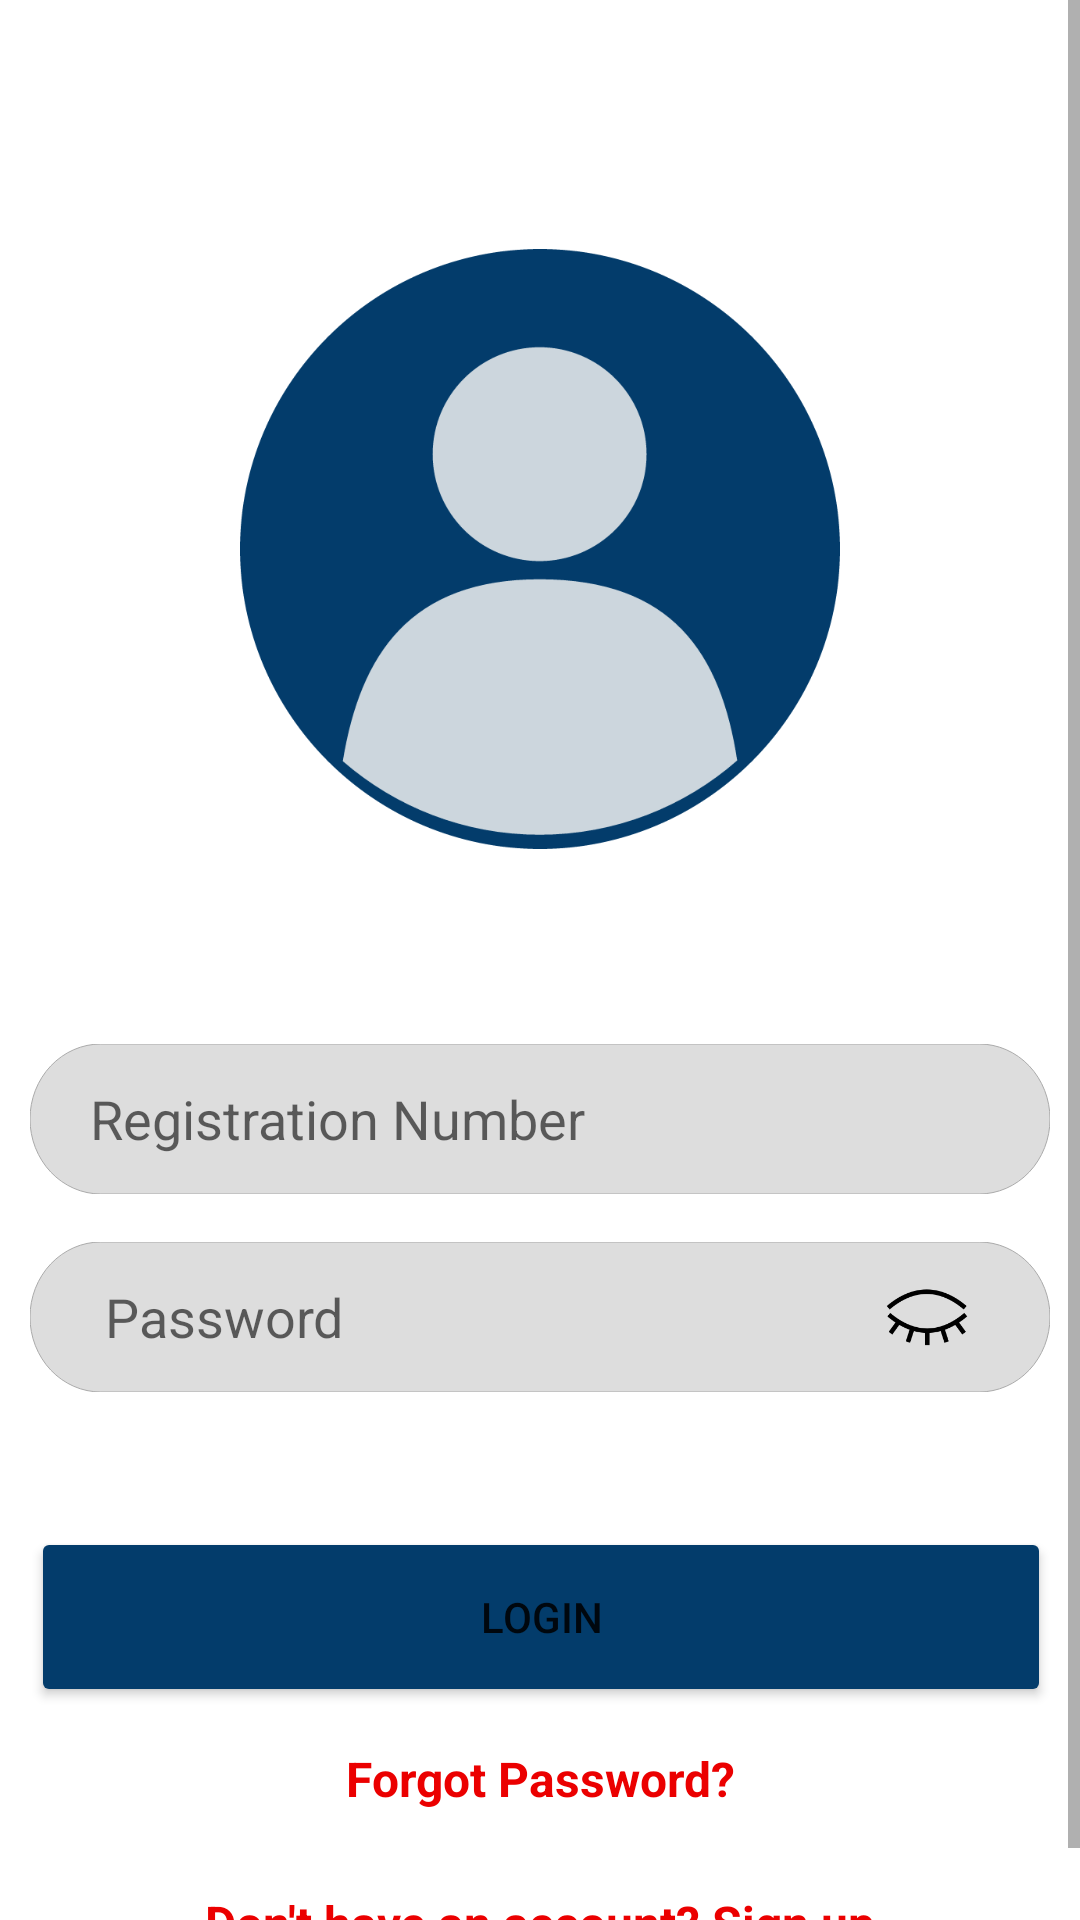

Icons on this 1080×1920 Android screen, each with the point to tap as [x,y]:
eye closed: [927,1317]
